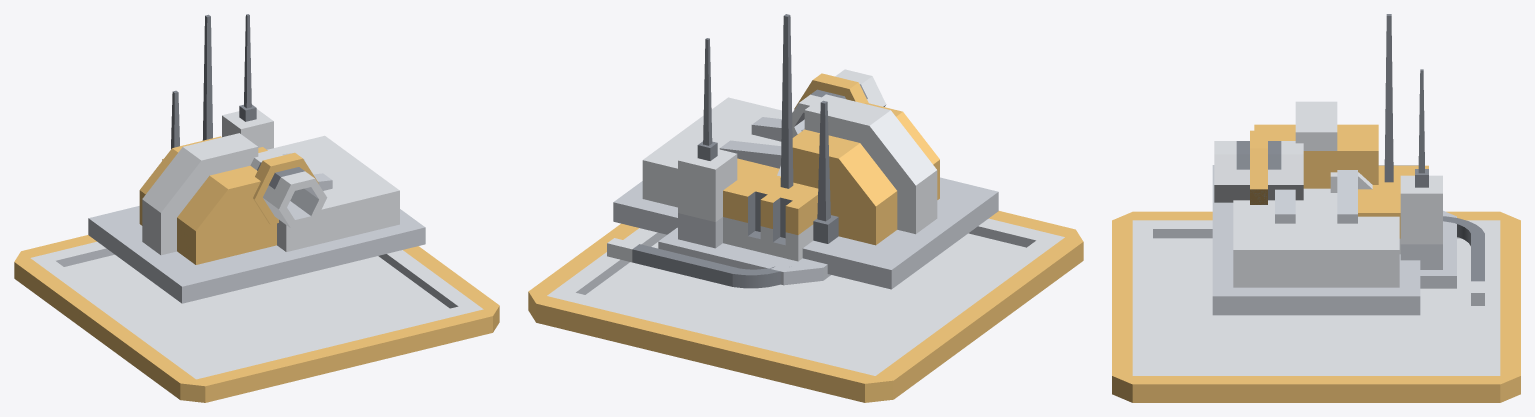
File: building_tech_centre.glb
The picture shows the model from 3 angles, left to right: view 1: azimuth 30°, elevation 25°; view 2: azimuth 150°, elevation 25°; view 3: azimuth 270°, elevation 25°; orthographic projection. The views are drawn at different scales.
Visible parts, largest first — view 1: platform_large.003, machine_wireless, pipe_ringHigh.002, machine_wirelessCable; view 2: platform_large.003, machine_wireless, machine_wirelessCable, cable.001, pipe_ringHigh.002; view 3: platform_large.003, machine_wireless, machine_wirelessCable, pipe_ringHigh.002, cable.001.
Part boxes in pixels (x1=…): platform_large.003: x1=14, y1=235, x2=499, y2=402; machine_wireless: x1=88, y1=14, x2=425, y2=303; pipe_ringHigh.002: x1=250, y1=149, x2=327, y2=228; machine_wirelessCable: x1=162, y1=14, x2=273, y2=160; platform_large.003: x1=528, y1=211, x2=1083, y2=402; machine_wireless: x1=613, y1=14, x2=998, y2=289; machine_wirelessCable: x1=658, y1=38, x2=830, y2=285; cable.001: x1=607, y1=238, x2=780, y2=288; pipe_ringHigh.002: x1=792, y1=69, x2=886, y2=137; platform_large.003: x1=1112, y1=211, x2=1520, y2=402; machine_wireless: x1=1212, y1=14, x2=1420, y2=315; machine_wirelessCable: x1=1330, y1=69, x2=1456, y2=288; pipe_ringHigh.002: x1=1214, y1=130, x2=1303, y2=204; cable.001: x1=1443, y1=216, x2=1484, y2=305.
Size of the model in its own units: 3.2 by 2.53 by 3.2.
